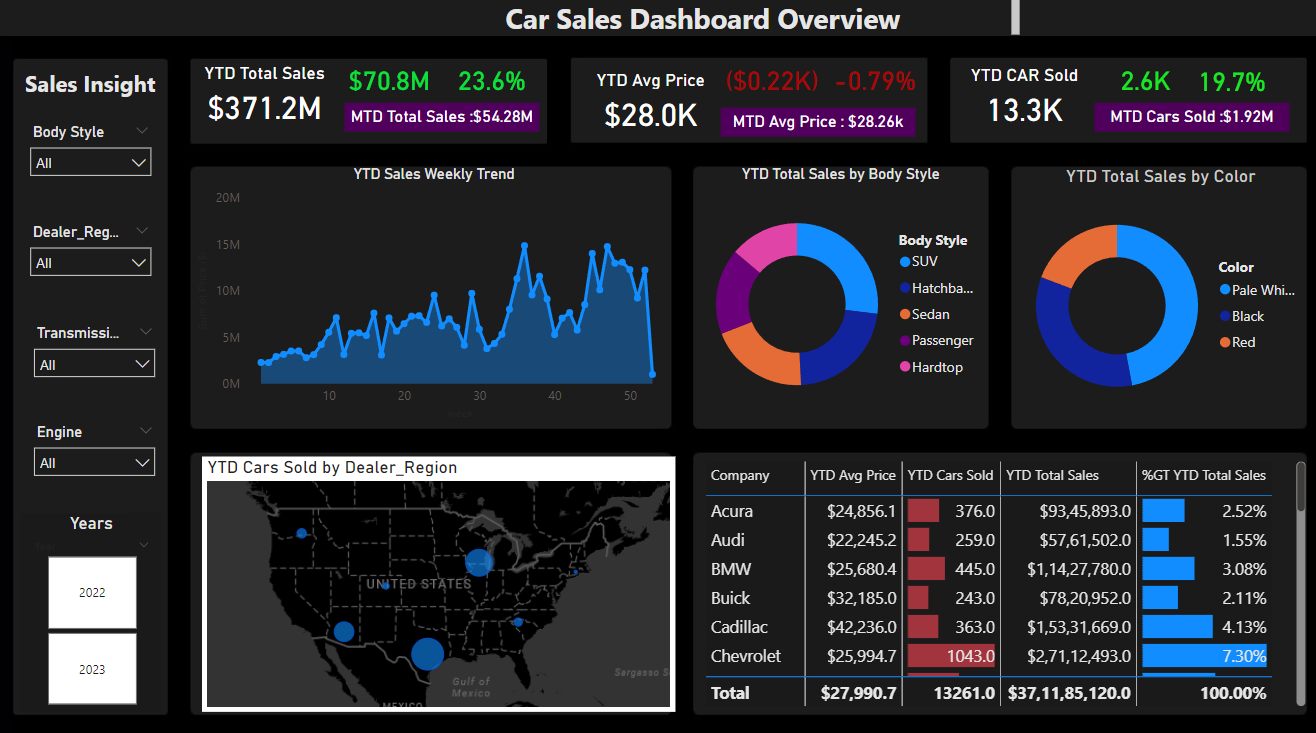

What the dashboard file says about the page in this screenshot:
{"tool":"powerbi","page":{"name":"Page 1","canvas":[1280,720],"ordinal":0},"visuals":[{"type":"card","fields":{"Values":["car_data.MTD KPI"]},"box":[335.3,104.9,188.1,27.7],"z":0},{"type":"card","title":"YTD Total Sales","fields":{"Values":["car_data.YTD Total Sales"]},"box":[190.6,72.4,135.1,65.1],"z":1000},{"type":"card","fields":{"Values":["car_data.Sales Difference"]},"box":[325.6,66.3,106.1,32.6],"z":2000},{"type":"card","fields":{"Values":["car_data.YOY Sales"]},"box":[431.8,67.5,91.7,31.4],"z":3000},{"type":"card","title":"YTD Avg Price","fields":{"Values":["car_data.YTD Avg Price"]},"box":[563.2,72.4,135.1,65.1],"z":4000},{"type":"card","fields":{"Values":["car_data.Avg cPrice Diff"]},"box":[698.3,66.3,98.9,32.6],"z":5000},{"type":"card","fields":{"Values":["car_data.YOY Avg Price Growth"]},"box":[797.2,66.3,98.9,32.6],"z":6000},{"type":"card","fields":{"Values":["car_data.MTD Avg Price KPI"]},"box":[698.3,109.7,188.1,27.7],"z":7000},{"type":"card","title":"YTD CAR  Sold","fields":{"Values":["car_data.YTD Cars Sold"]},"box":[923.8,67.5,135.1,65.1],"z":8000},{"type":"card","fields":{"Values":["car_data.Cars Sold Diff"]},"box":[1058.9,66.3,98.9,32.6],"z":9000},{"type":"card","fields":{"Values":["car_data.YOY Car Sold Growth"]},"box":[1146.9,67.5,89.2,32.6],"z":10000},{"type":"card","fields":{"Values":["car_data.MTD Cars Sold KPI"]},"box":[1058.9,104.9,188.1,27.7],"z":11000},{"type":"areaChart","title":"YTD Sales Weekly Trend","fields":{"Category":["Calendar Table.week"],"Y":["Sum(car_data.Price ($))"]},"box":[188.1,165.2,466.7,250.9],"z":12000},{"type":"donutChart","fields":{"Category":["car_data.Body Style"],"Y":["car_data.YTD Total Sales"]},"box":[669.3,165.2,289.4,250.9],"z":13000},{"type":"donutChart","fields":{"Category":["car_data.Color"],"Y":["car_data.YTD Total Sales"]},"box":[978.1,165.2,289.4,250.9],"z":14000},{"type":"map","fields":{"Category":["car_data.Dealer_Region"],"Size":["car_data.YTD Cars Sold"]},"box":[197.8,446.2,457.1,246],"z":15000},{"type":"tableEx","fields":{"Values":["car_data.Company","car_data.YTD Avg Price","car_data.YTD Cars Sold","car_data.YTD Total Sales1","car_data.YTD Total Sales"]},"box":[677.8,446.2,589.7,246],"z":16000},{"type":"slicer","fields":{"Values":["car_data.Body Style"]},"box":[21.7,119.4,137.5,74.8],"z":17000},{"type":"slicer","fields":{"Values":["car_data.Dealer_Region"]},"box":[21.7,215.9,137.5,74.8],"z":18000},{"type":"slicer","fields":{"Values":["car_data.Transmission"]},"box":[25.3,313.6,137.5,74.8],"z":19000},{"type":"slicer","fields":{"Values":["car_data.Engine"]},"box":[25.3,408.8,137.5,74.8],"z":20000},{"type":"textbox","box":[378.7,0,612.7,44.6],"z":21000},{"type":"textbox","box":[16.9,66.3,145.9,38.6],"z":22000},{"type":"slicer","title":"Years","fields":{"Values":["Calendar Table.Year"]},"box":[22.9,500.5,136.3,191.8],"z":23000}]}

Visuals, with their boxes in screenshot pixels (x1, y1, x2, y2), scaled from the page's 1280x720 canvas onto the 1316x733 screenshot:
card - car_data.MTD KPI: x1=345, y1=107, x2=538, y2=135
"YTD Total Sales" card: x1=196, y1=74, x2=335, y2=140
card - car_data.Sales Difference: x1=335, y1=67, x2=444, y2=101
card - car_data.YOY Sales: x1=444, y1=69, x2=538, y2=101
"YTD Avg Price" card: x1=579, y1=74, x2=718, y2=140
card - car_data.Avg cPrice Diff: x1=718, y1=67, x2=820, y2=101
card - car_data.YOY Avg Price Growth: x1=820, y1=67, x2=921, y2=101
card - car_data.MTD Avg Price KPI: x1=718, y1=112, x2=911, y2=140
"YTD CAR  Sold" card: x1=950, y1=69, x2=1089, y2=135
card - car_data.Cars Sold Diff: x1=1089, y1=67, x2=1190, y2=101
card - car_data.YOY Car Sold Growth: x1=1179, y1=69, x2=1271, y2=102
card - car_data.MTD Cars Sold KPI: x1=1089, y1=107, x2=1282, y2=135
"YTD Sales Weekly Trend" areaChart: x1=193, y1=168, x2=673, y2=424
donutChart - car_data.Body Style x car_data.YTD Total Sales: x1=688, y1=168, x2=986, y2=424
donutChart - car_data.Color x car_data.YTD Total Sales: x1=1006, y1=168, x2=1303, y2=424
map - car_data.Dealer_Region x car_data.YTD Cars Sold: x1=203, y1=454, x2=673, y2=705
tableEx - car_data.Company x car_data.YTD Avg Price: x1=697, y1=454, x2=1303, y2=705
slicer - car_data.Body Style: x1=22, y1=122, x2=164, y2=198
slicer - car_data.Dealer_Region: x1=22, y1=220, x2=164, y2=296
slicer - car_data.Transmission: x1=26, y1=319, x2=167, y2=395
slicer - car_data.Engine: x1=26, y1=416, x2=167, y2=492
textbox: x1=389, y1=0, x2=1019, y2=45
textbox: x1=17, y1=67, x2=167, y2=107
"Years" slicer: x1=24, y1=510, x2=164, y2=705
